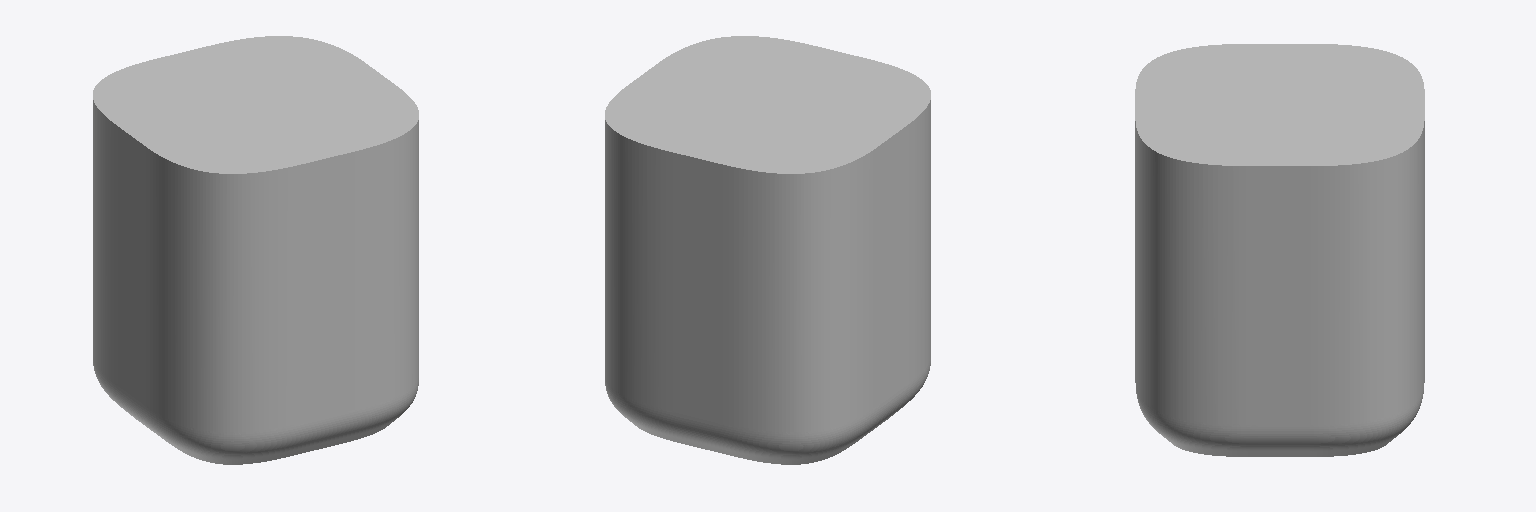
The model's file is 02_pawn.obj.
The picture shows the model from 3 angles: view 1: azimuth 30°, elevation 25°; view 2: azimuth 150°, elevation 25°; view 3: azimuth 270°, elevation 25°; orthographic projection.
Visible parts, largest first — view 1: Pawn_-_x8pcs_by_colour_-_001; view 2: Pawn_-_x8pcs_by_colour_-_001; view 3: Pawn_-_x8pcs_by_colour_-_001.
Part boxes in pixels (x1,y1,x2,y2): Pawn_-_x8pcs_by_colour_-_001: (93, 36, 418, 464); Pawn_-_x8pcs_by_colour_-_001: (605, 36, 930, 464); Pawn_-_x8pcs_by_colour_-_001: (1135, 44, 1424, 456).
Size of the model in its own units: 16.5 by 19 by 16.5.